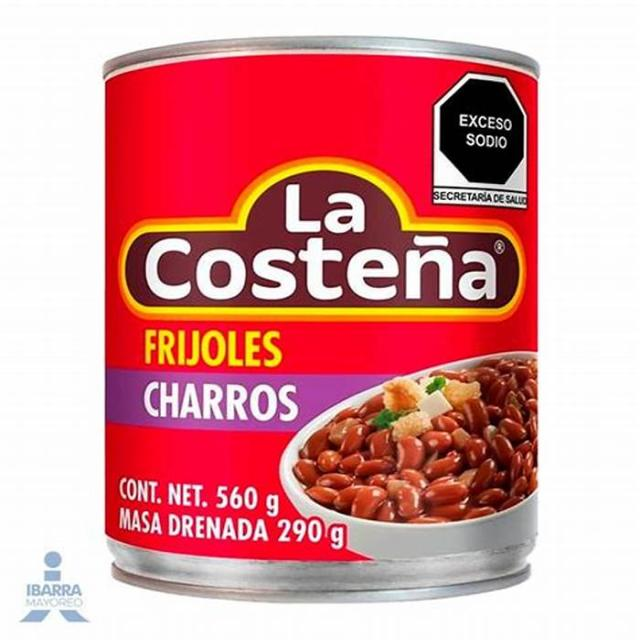Lata: (99, 50, 543, 592)
